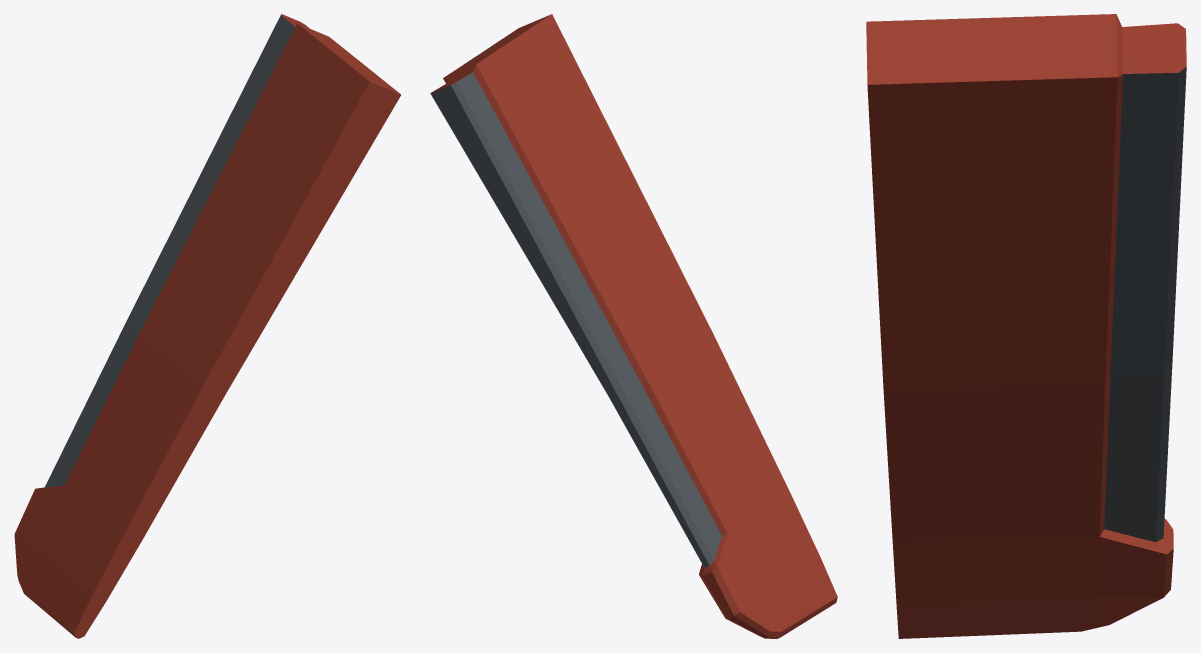
The model's file is Fighter_06_Auxillary_Wing_Right_Red.fbx.
The picture shows the model from 3 angles, left to right: view 1: azimuth 30°, elevation 25°; view 2: azimuth 150°, elevation 25°; view 3: azimuth 270°, elevation 25°; orthographic projection. The views are drawn at different scales.
Visible parts, largest first — view 1: Fighter_06_Auxillary_Wing_Right_Red; view 2: Fighter_06_Auxillary_Wing_Right_Red; view 3: Fighter_06_Auxillary_Wing_Right_Red.
Part boxes in pixels (x1,y1,x2,y2): Fighter_06_Auxillary_Wing_Right_Red: (14, 14, 400, 638); Fighter_06_Auxillary_Wing_Right_Red: (430, 14, 837, 638); Fighter_06_Auxillary_Wing_Right_Red: (866, 14, 1186, 638).
Size of the model in its own units: 276 by 414 by 140.
1 material, 1 textured.
